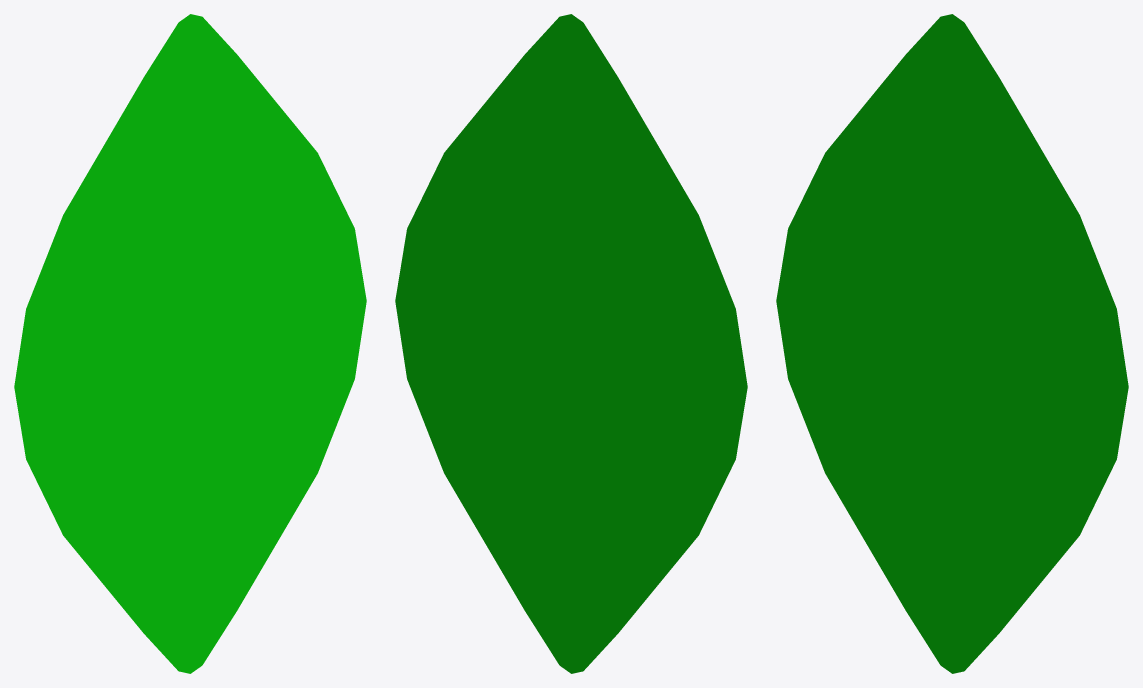
Rendered from oval_04.dae.
3 views of the same model, side by side, from view 1: azimuth 30°, elevation 25°; view 2: azimuth 150°, elevation 25°; view 3: azimuth 330°, elevation 25° (orthographic).
Visible parts, largest first — view 1: Shield_Oval_04.003; view 2: Shield_Oval_04.003; view 3: Shield_Oval_04.003.
Boxes of the visible parts, box(x1,y1,x2,y2) form: Shield_Oval_04.003: box(14, 14, 366, 673); Shield_Oval_04.003: box(395, 14, 747, 673); Shield_Oval_04.003: box(776, 14, 1128, 673).
Size of the model in its own units: 1.33 by 0 by 2.39.
